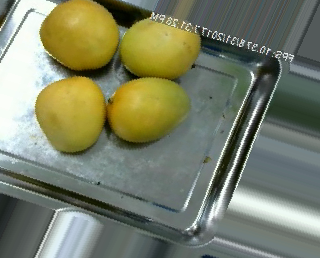Mango: (38, 0, 117, 70), (34, 76, 105, 152), (106, 78, 190, 141), (118, 15, 201, 77)
